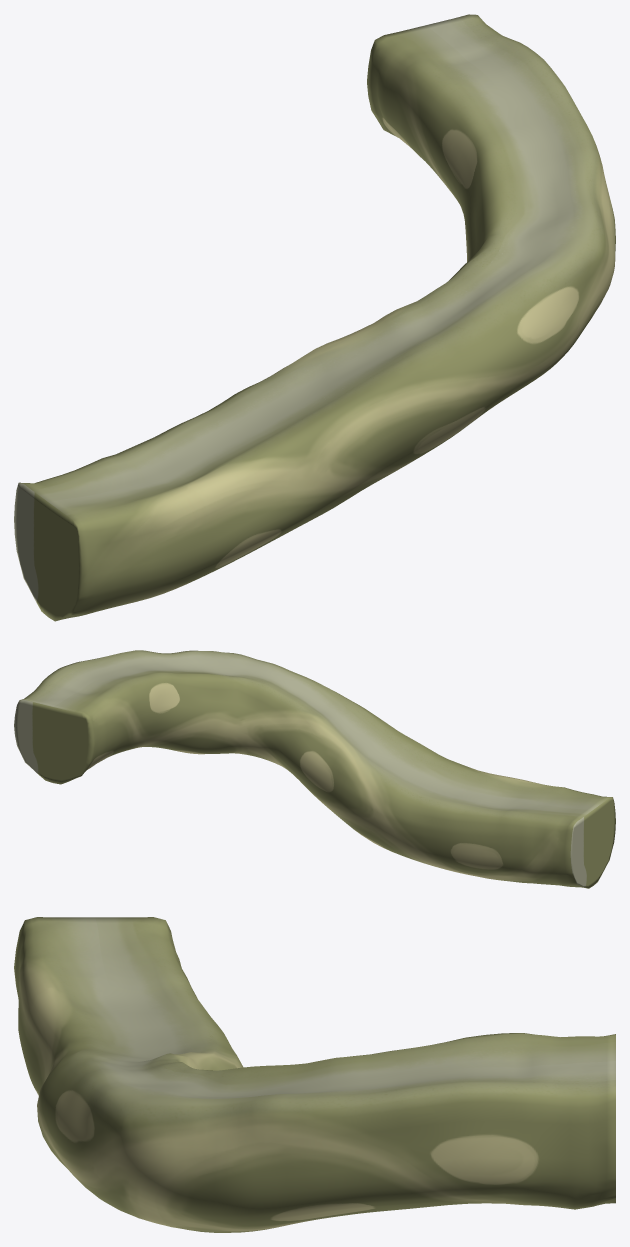
Rendered from StarPathCurveRamp.fbx.
3 views of the same model, one above another, from view 1: azimuth 30°, elevation 25°; view 2: azimuth 150°, elevation 25°; view 3: azimuth 270°, elevation 25° (orthographic). The views are drawn at different scales.
Parts seen in each view (by area): view 1: StarPathCurveRamp; view 2: StarPathCurveRamp; view 3: StarPathCurveRamp.
Boxes of the visible parts, left/top/right/bottom form: StarPathCurveRamp: left=14, top=14, right=615, bottom=621; StarPathCurveRamp: left=14, top=650, right=615, bottom=888; StarPathCurveRamp: left=14, top=917, right=615, bottom=1232.
Size of the model in its own units: 1219 by 517 by 809.
1 material, 1 textured.
